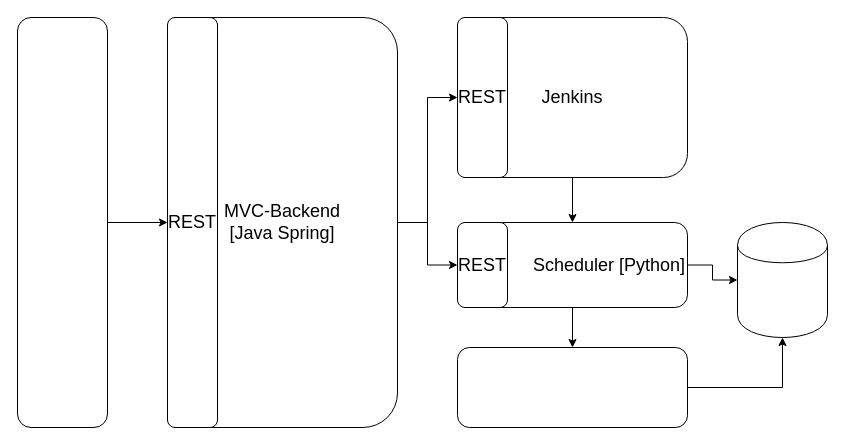
This 845x445 diagram has some shape labels left out. The centre of each missing label's shape, as x and y in pixels:
"Frontend [D3.js]" goes at (62,222).
"MongoDB" goes at (782,280).
"VRP [C++]" goes at (572,387).
